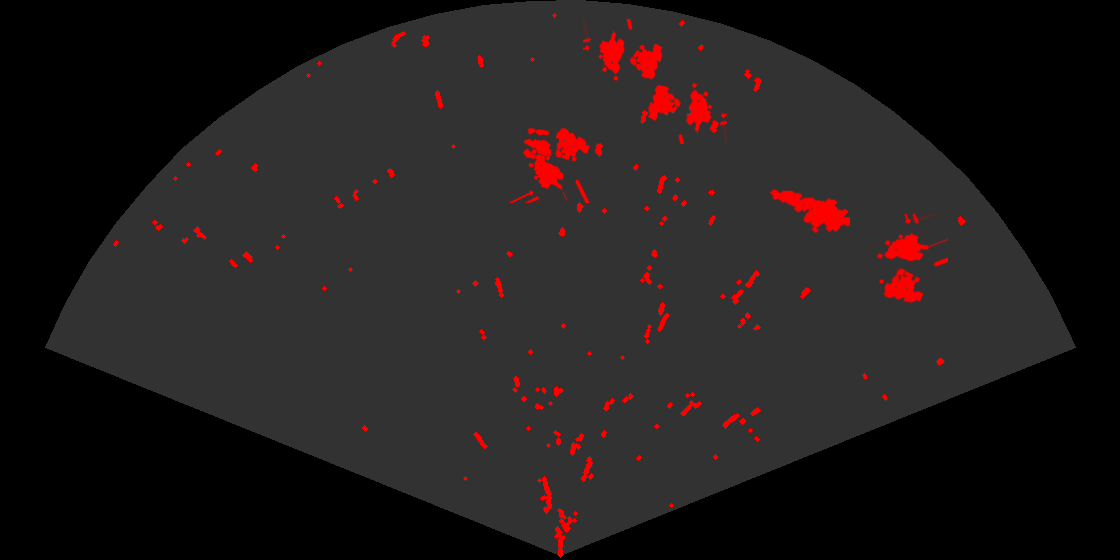ball: (521, 126, 553, 162)
cage: (875, 214, 948, 305), (508, 126, 592, 203), (646, 81, 727, 144), (583, 19, 664, 82)
frogman: (768, 188, 850, 235)
